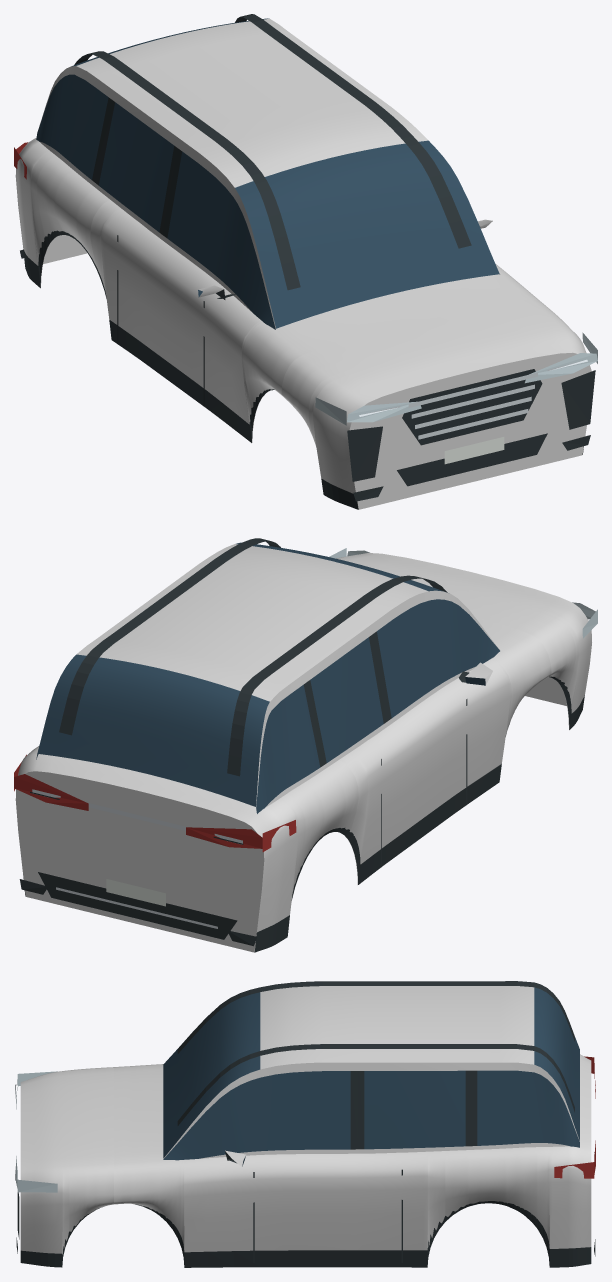
File: veh_fortuner-lod0.glb
The picture shows the model from 3 angles, top to bottom: view 1: azimuth 30°, elevation 25°; view 2: azimuth 150°, elevation 25°; view 3: azimuth 270°, elevation 25°; orthographic projection. The views are drawn at different scales.
Parts seen in each view (by area): view 1: paint, glass, trim, chrome, head, plate; view 2: paint, glass, trim, tail, chrome, plate, head; view 3: paint, glass, trim, head, tail.
Part boxes in pixels (<box>): paint: <box>15,19,591,509</box>; glass: <box>36,18,499,329</box>; trim: <box>20,14,595,509</box>; chrome: <box>359,359,587,439</box>; head: <box>315,332,597,425</box>; plate: <box>444,437,504,464</box>; paint: <box>15,544,591,952</box>; glass: <box>36,542,499,813</box>; trim: <box>19,538,584,952</box>; tail: <box>14,754,296,851</box>; chrome: <box>32,789,242,928</box>; plate: <box>106,879,165,906</box>; head: <box>329,548,597,638</box>; paint: <box>20,986,591,1254</box>; glass: <box>163,987,579,1166</box>; trim: <box>16,981,595,1267</box>; head: <box>16,1071,57,1192</box>; tail: <box>554,1056,595,1178</box>.
Size of the model in its own units: 1.61 by 1.23 by 3.25.
